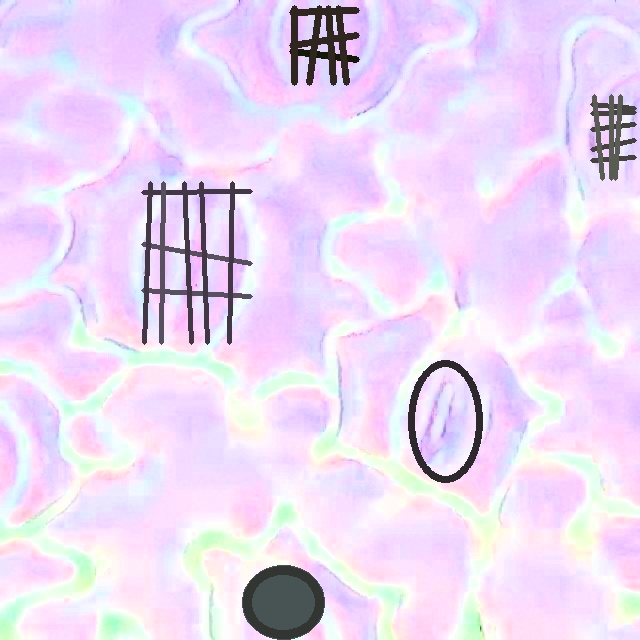close: (242, 565, 324, 638), (290, 6, 358, 85)
open: (141, 181, 252, 344), (408, 358, 482, 483), (591, 95, 635, 179)
